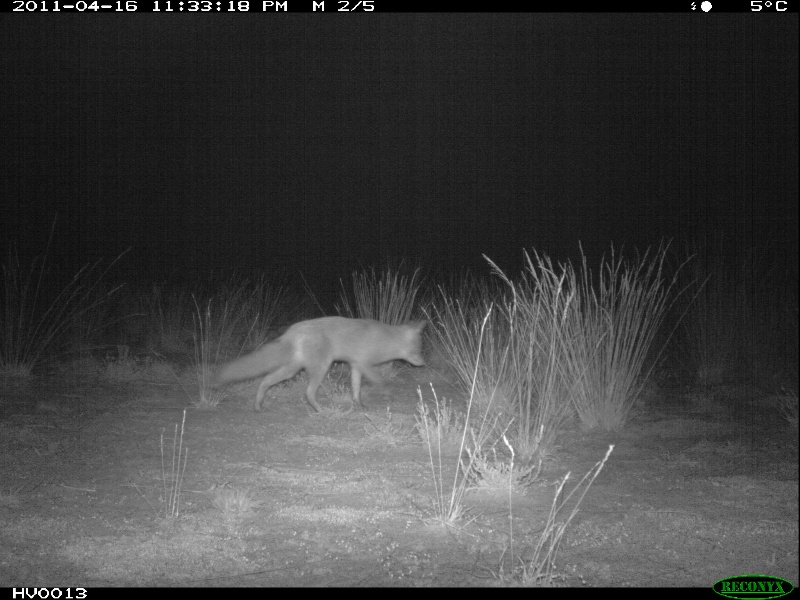fox: (197, 307, 434, 411)
